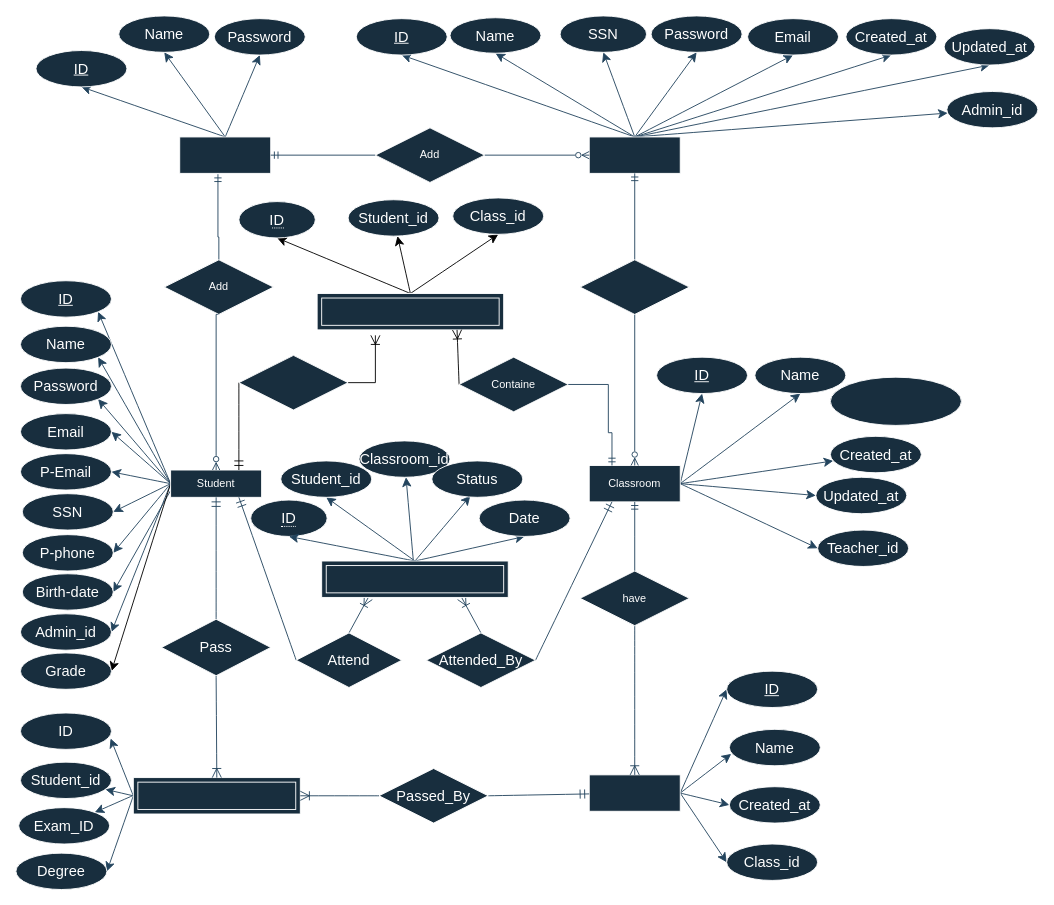
Image size: 1054x905. Some labels were removed from this diagram. Each missing label, with the centre of its shape:
Added_to: the point at 293,382
Admin: the point at 225,154
Decription _Constraiens: the point at 895,400
Exam: the point at 634,792
Mange: the point at 634,286
Student_Classroom_attend: the point at 414,578
Student_classroom_Registe: the point at 410,311
Student_Exam_degree: the point at 216,795
Teacher: the point at 634,154
